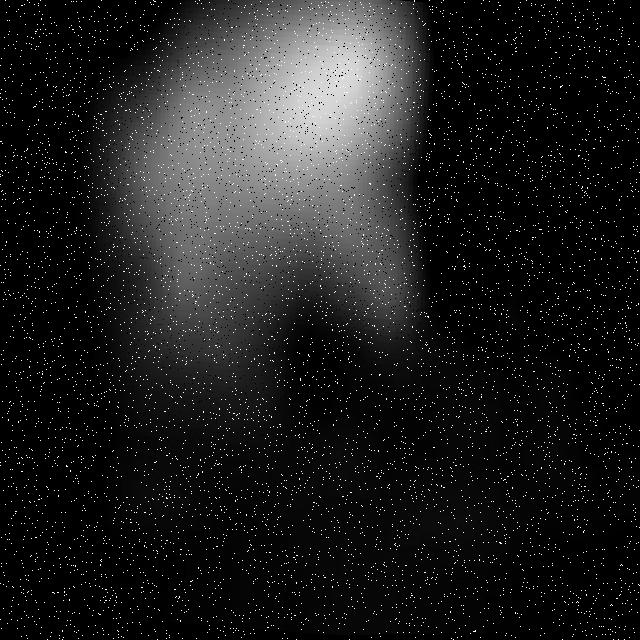person: (65, 1, 478, 419)
